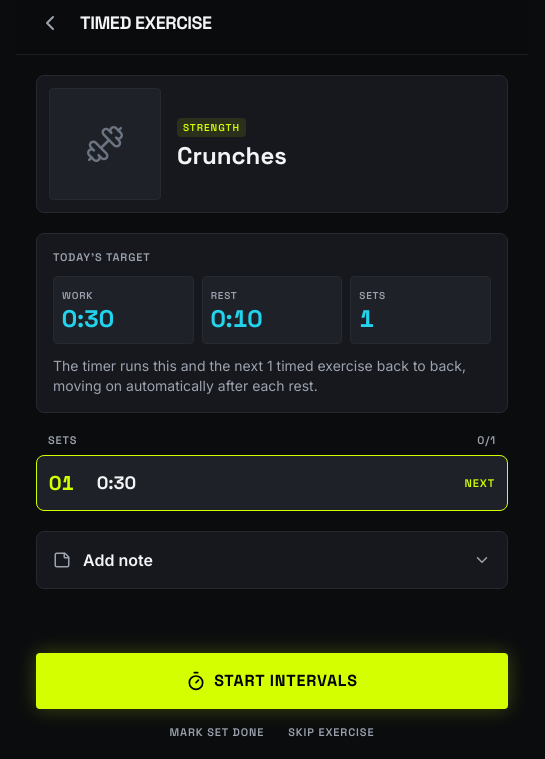
Test: timed exercises › starts an auto-advancing interval sequence from the exercise screen
What coordinates should you click on to do the following:
click the button "Start intervals"
I would click on:
 (272, 681)
Its box is [36,653,508,709].
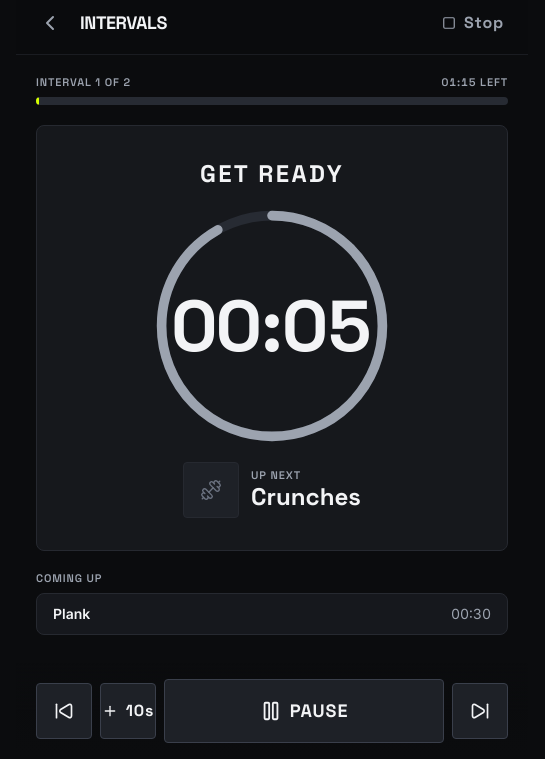
Check: the text "Get ready" is shown, box [200,158,344,190]
Check: the text "Interval 1 of 2" is shown, box [36,75,131,89]
